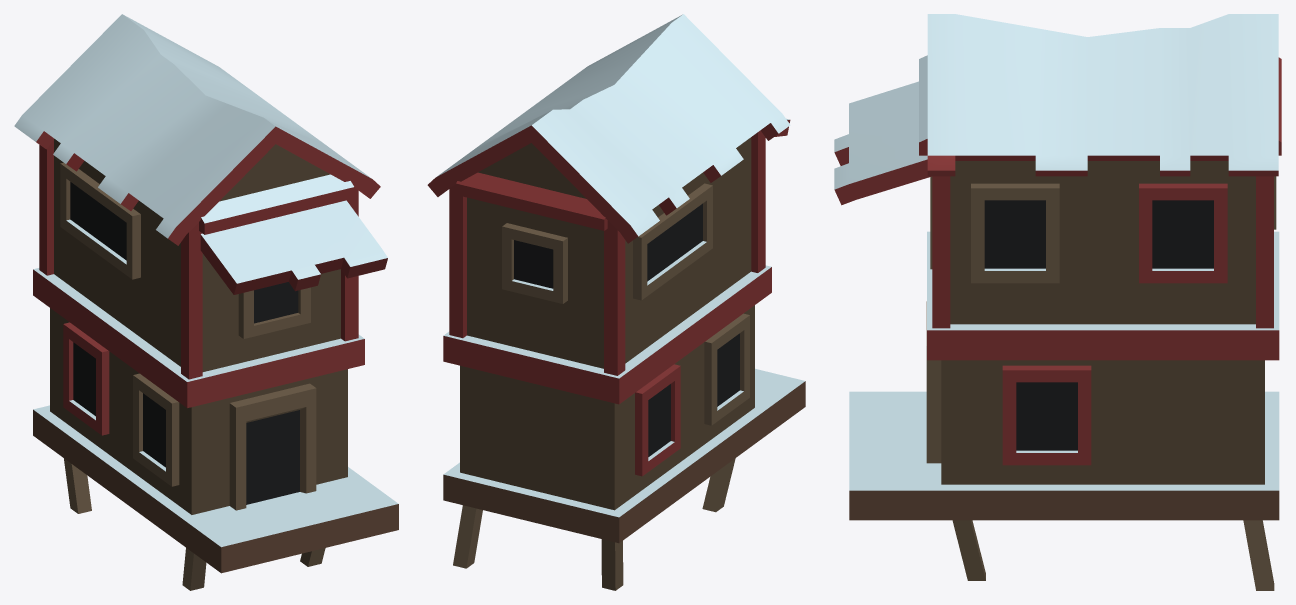
The model's file is SM_Bld_Pirate_Shack_02_Snow.fbx.
3 renders of one model, left to right at view 1: azimuth 30°, elevation 25°; view 2: azimuth 150°, elevation 25°; view 3: azimuth 270°, elevation 25°, orthographic. The views are drawn at different scales.
Parts seen in each view (by area): view 1: SM_Bld_Pirate_Shack_02_Snow; view 2: SM_Bld_Pirate_Shack_02_Snow; view 3: SM_Bld_Pirate_Shack_02_Snow.
Boxes of the visible parts, <box> form: SM_Bld_Pirate_Shack_02_Snow: <box>14,14,398,590</box>; SM_Bld_Pirate_Shack_02_Snow: <box>427,14,805,590</box>; SM_Bld_Pirate_Shack_02_Snow: <box>834,14,1281,590</box>.
Size of the model in its own units: 76.97 by 161 by 123.
1 material, 1 textured.
